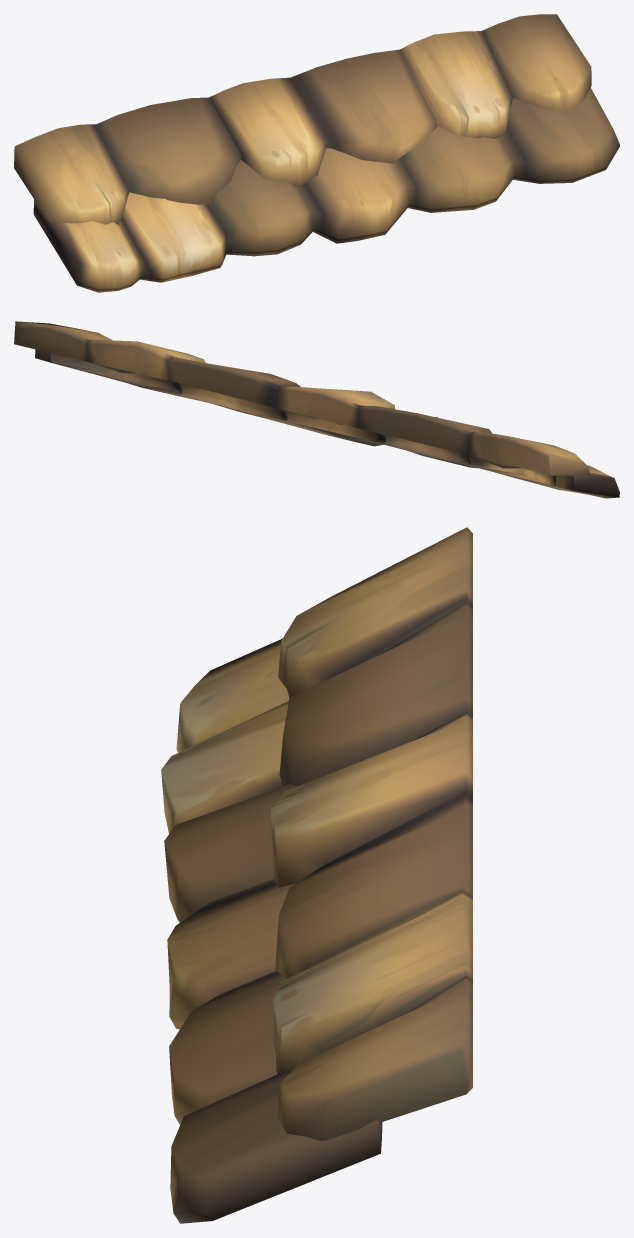
The model's file is SM_MOD_roof_sloped_extension_bottom_long_bricks_town.fbx.
3 views of the same model, one above another, from view 1: azimuth 30°, elevation 25°; view 2: azimuth 150°, elevation 25°; view 3: azimuth 270°, elevation 25° (orthographic). The views are drawn at different scales.
Parts seen in each view (by area): view 1: SM_MOD_roof_sloped_extension_bottom_long_bricks_town_LOD0; view 2: SM_MOD_roof_sloped_extension_bottom_long_bricks_town_LOD0; view 3: SM_MOD_roof_sloped_extension_bottom_long_bricks_town_LOD0.
Part boxes in pixels (bbox=[...]): SM_MOD_roof_sloped_extension_bottom_long_bricks_town_LOD0: bbox=[14, 14, 619, 292]; SM_MOD_roof_sloped_extension_bottom_long_bricks_town_LOD0: bbox=[14, 321, 619, 498]; SM_MOD_roof_sloped_extension_bottom_long_bricks_town_LOD0: bbox=[161, 527, 472, 1223].
Size of what is drawn, in the model's own units: 404 by 83.78 by 101.
